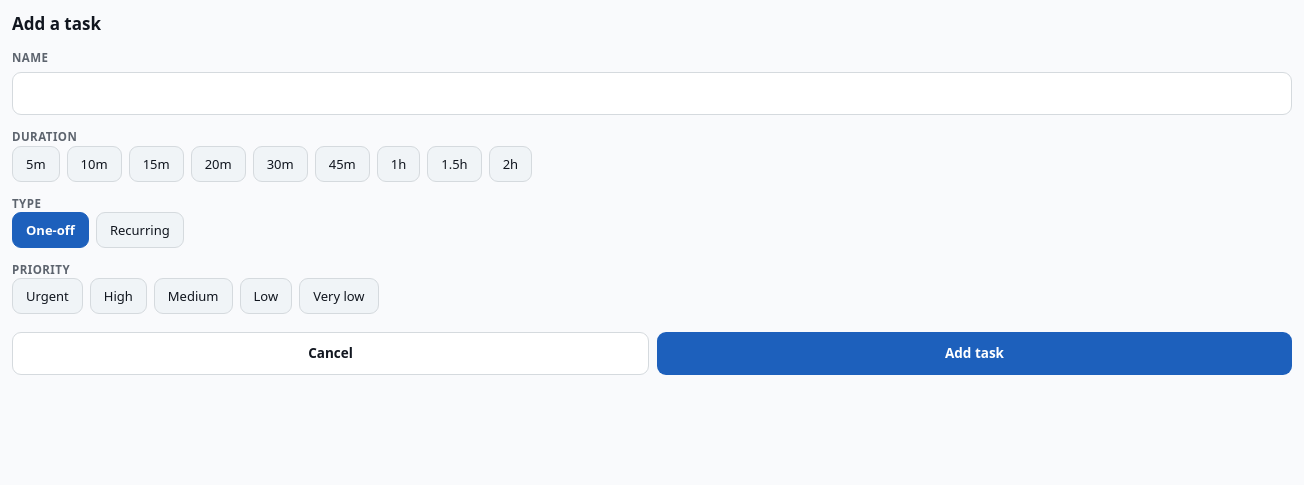
Test case: 9.2 choosing recurring swaps priority for the rule builder › choosing one-off again brings the priority chips back and hides the rule builder
Click the button "Recurring". click: click(140, 230)
box: [96,212,184,248]
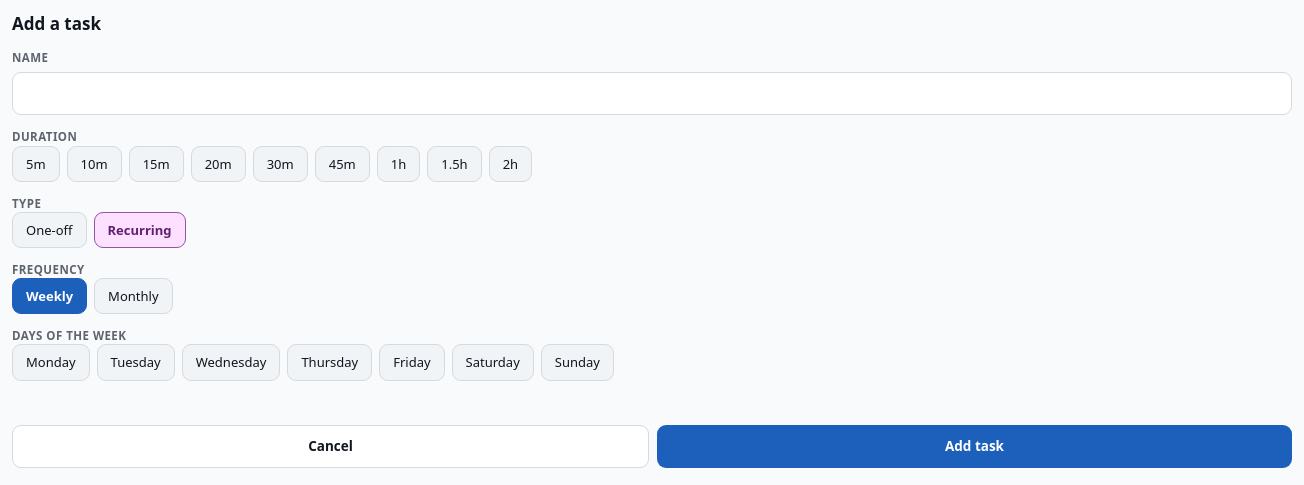
Click the button "One-off". click: click(49, 230)
box: [12,212,86,248]
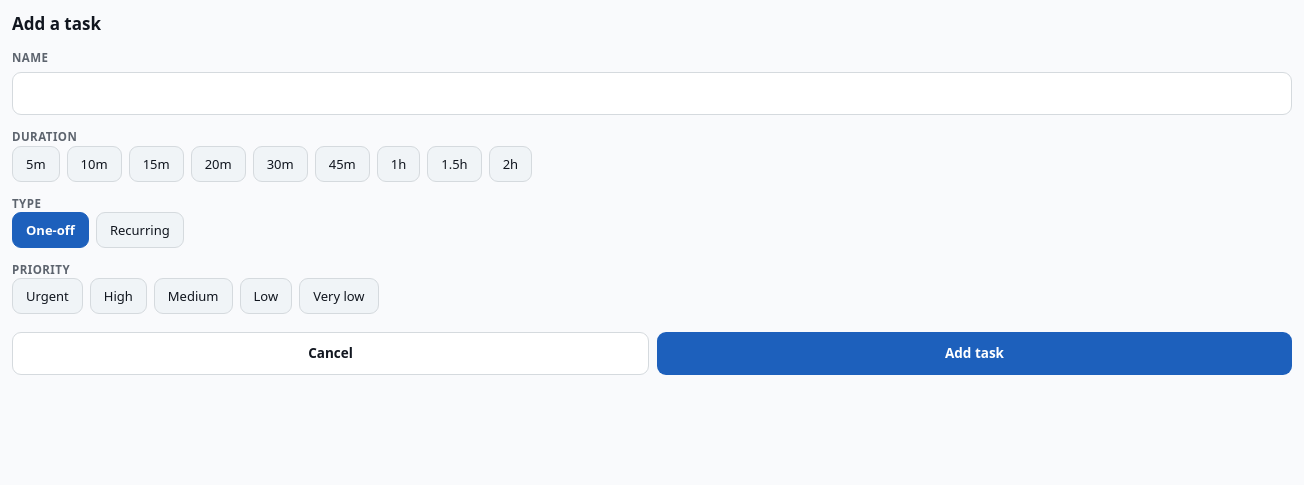
Now the element "Priority" is shown, box [12,262,379,314]
Now the text "Frequency" is gone
